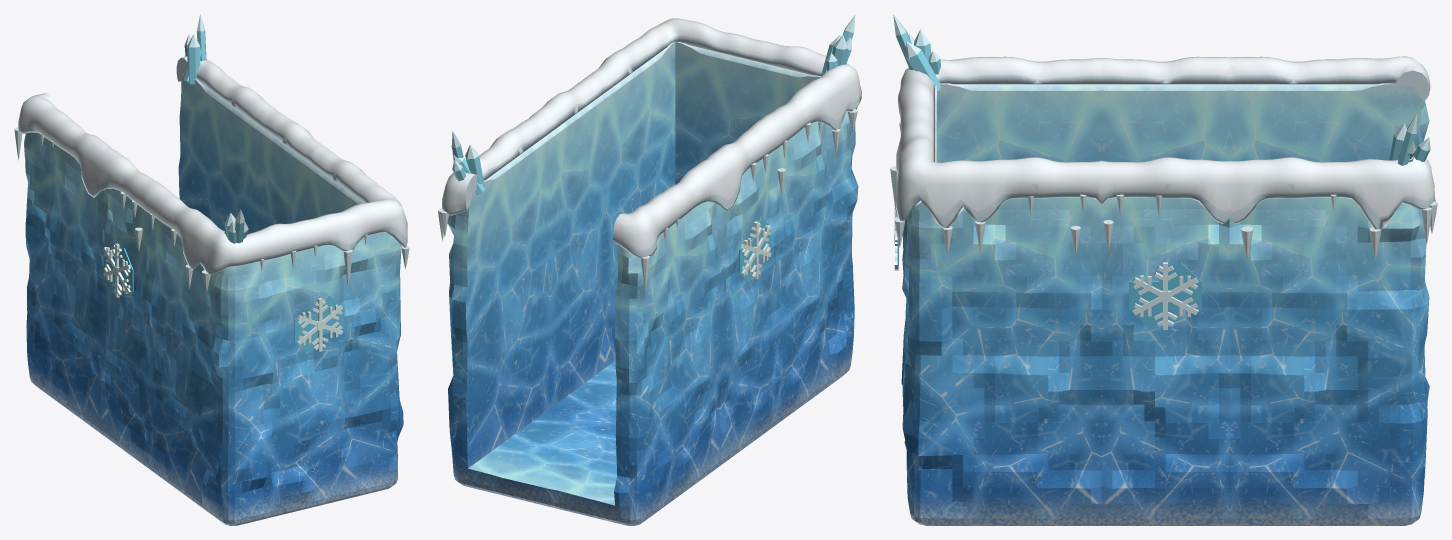
File: SM_IcePit_Long.fbx
The picture shows the model from 3 angles, left to right: view 1: azimuth 30°, elevation 25°; view 2: azimuth 150°, elevation 25°; view 3: azimuth 270°, elevation 25°; orthographic projection. The views are drawn at different scales.
Visible parts, largest first — view 1: SM_IcePit_Long, SM_IcePit_Long_Snow, SM_IcePit_Long_Ice; view 2: SM_IcePit_Long, SM_IcePit_Long_Snow, SM_IcePit_Long_Ice; view 3: SM_IcePit_Long, SM_IcePit_Long_Snow, SM_IcePit_Long_Ice.
Part boxes in pixels (box(x1,y1,x2,y2)): SM_IcePit_Long: box(24, 73, 403, 525); SM_IcePit_Long_Snow: box(18, 56, 407, 275); SM_IcePit_Long_Ice: box(14, 14, 409, 352); SM_IcePit_Long: box(447, 41, 858, 525); SM_IcePit_Long_Snow: box(442, 18, 861, 258); SM_IcePit_Long_Ice: box(438, 14, 857, 290); SM_IcePit_Long: box(901, 83, 1429, 525); SM_IcePit_Long_Snow: box(895, 56, 1435, 229); SM_IcePit_Long_Ice: box(890, 14, 1437, 329).
Size of the model in its own units: 2.31 by 3.57 by 4.28.
